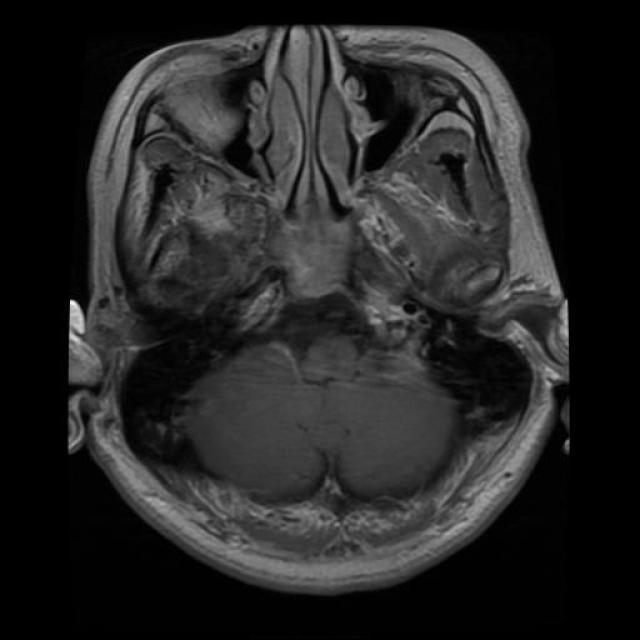pituitary: (260, 212, 364, 312)
